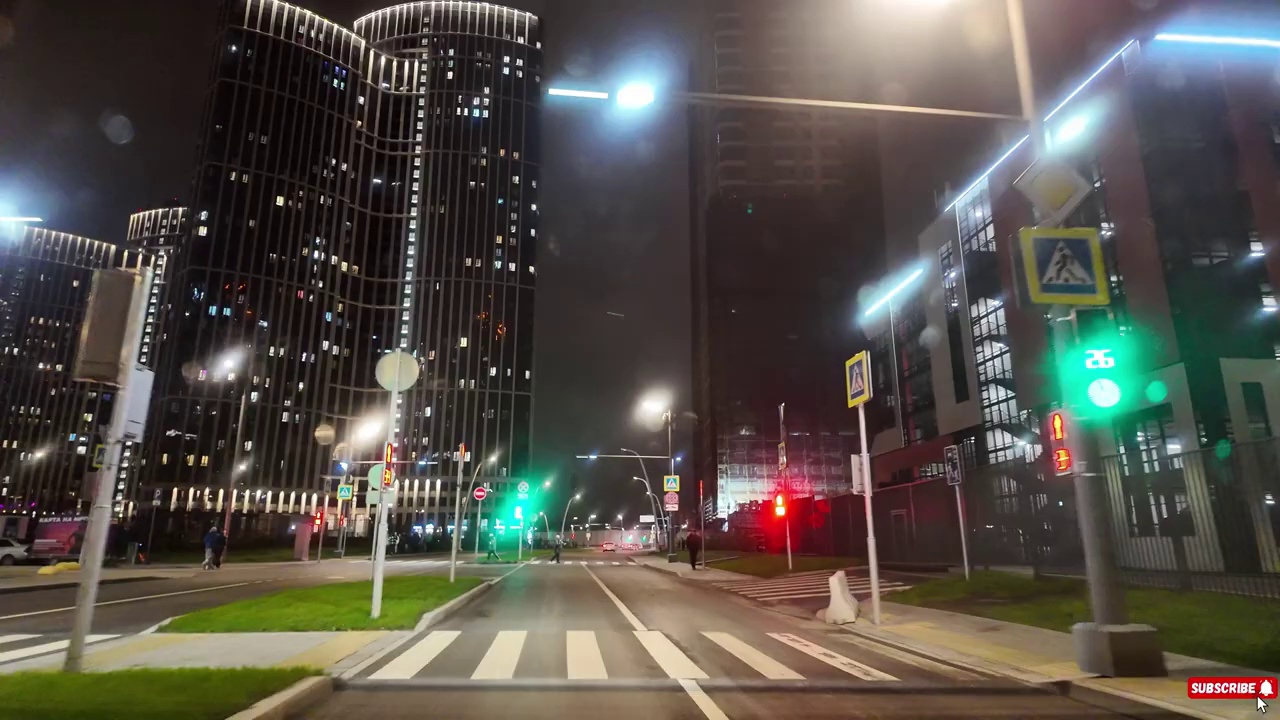acesa: (865, 258, 933, 319), (612, 73, 661, 122), (631, 386, 674, 432), (0, 187, 21, 238)
